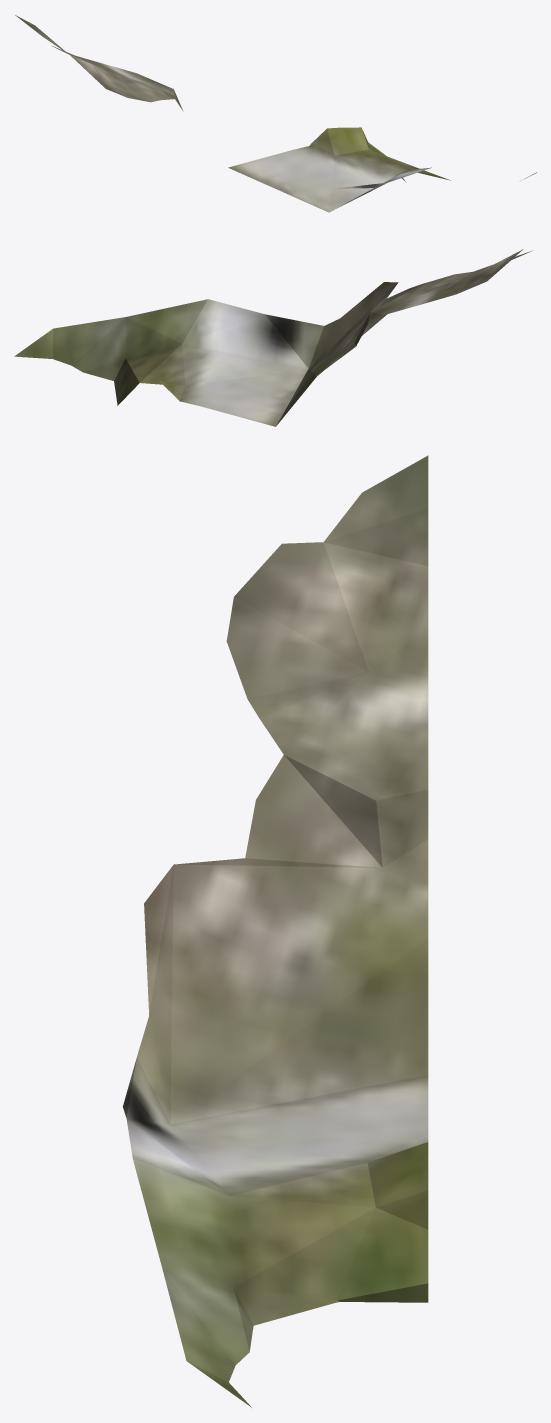
3 views of the same model, one above another, from view 1: azimuth 30°, elevation 25°; view 2: azimuth 150°, elevation 25°; view 3: azimuth 270°, elevation 25° (orthographic). The views are drawn at different scales.
Bounding box in the file's own units: 36.26 × 17.55 × 10.01.
Materials: 1 (1 with a texture image).
